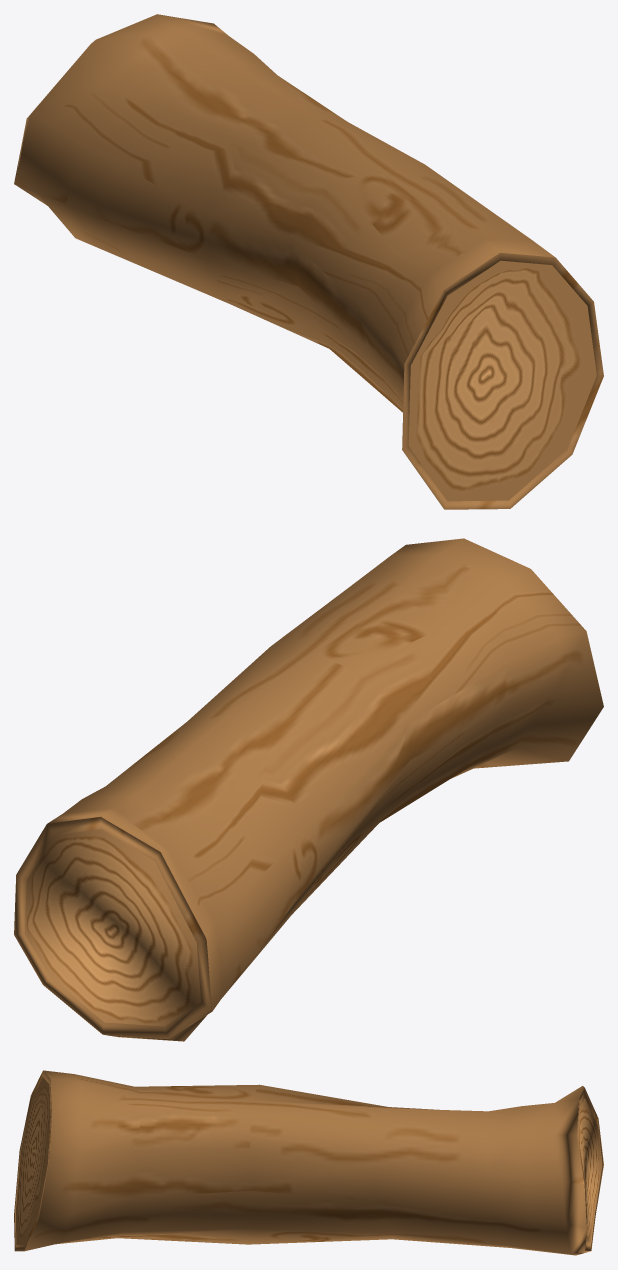
File: Trunk1.fbx
3 renders of one model, top to bottom at view 1: azimuth 30°, elevation 25°; view 2: azimuth 150°, elevation 25°; view 3: azimuth 270°, elevation 25°, orthographic. The views are drawn at different scales.
Parts seen in each view (by area): view 1: Zylinder; view 2: Zylinder; view 3: Zylinder.
Boxes of the visible parts, <box> form: Zylinder: <box>14,14,603,509</box>; Zylinder: <box>14,538,603,1041</box>; Zylinder: <box>14,1070,603,1255</box>.
Bounding box in the file's own units: 24.29 × 25.78 × 76.97.
1 material, 1 textured.
